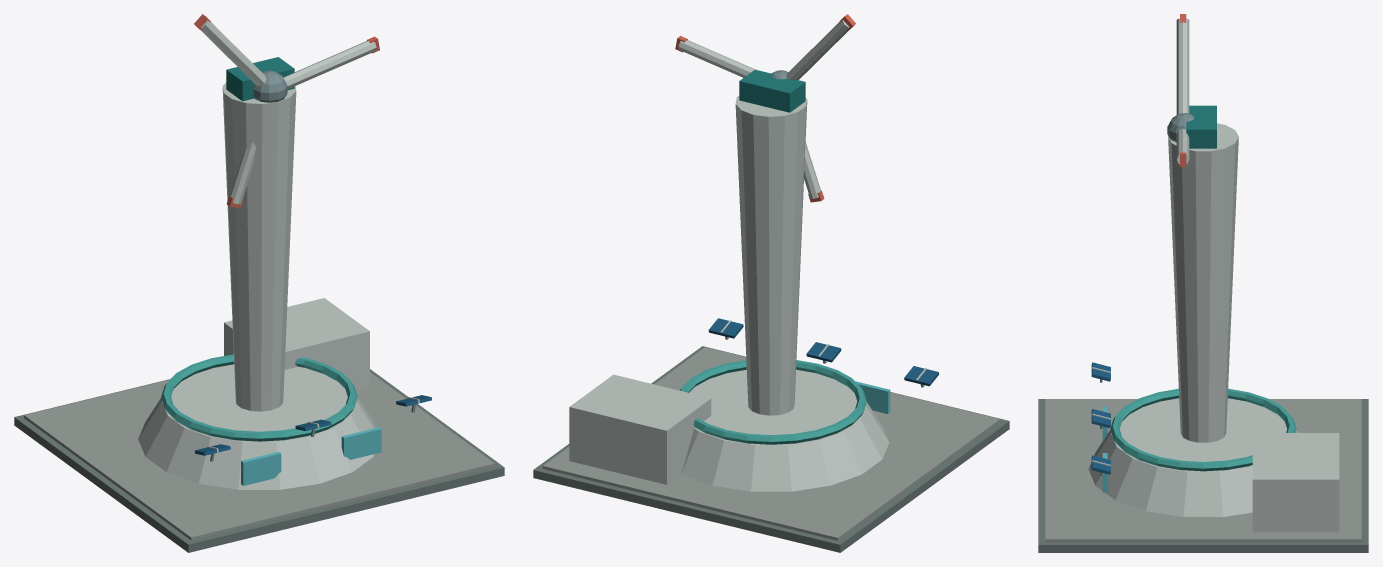
The model's file is wind_lv3.glb.
3 views of the same model, side by side, from view 1: azimuth 30°, elevation 25°; view 2: azimuth 150°, elevation 25°; view 3: azimuth 270°, elevation 25° (orthographic). The views are drawn at different scales.
Visible parts, largest first — view 1: rough, glossy, metallic; view 2: rough, metallic, glossy; view 3: rough, metallic.
Boxes of the visible parts, left/top/right/bottom form: rough: left=14, top=14, right=504, bottom=552; glossy: left=241, top=427, right=381, bottom=485; metallic: left=194, top=70, right=431, bottom=461; rough: left=533, top=14, right=1009, bottom=552; metallic: left=708, top=70, right=939, bottom=387; glossy: left=855, top=381, right=890, bottom=413; rough: left=1038, top=14, right=1368, bottom=552; metallic: left=1091, top=113, right=1194, bottom=475.
Bounding box in the file's own units: 8.8 × 12.21 × 8.4.
